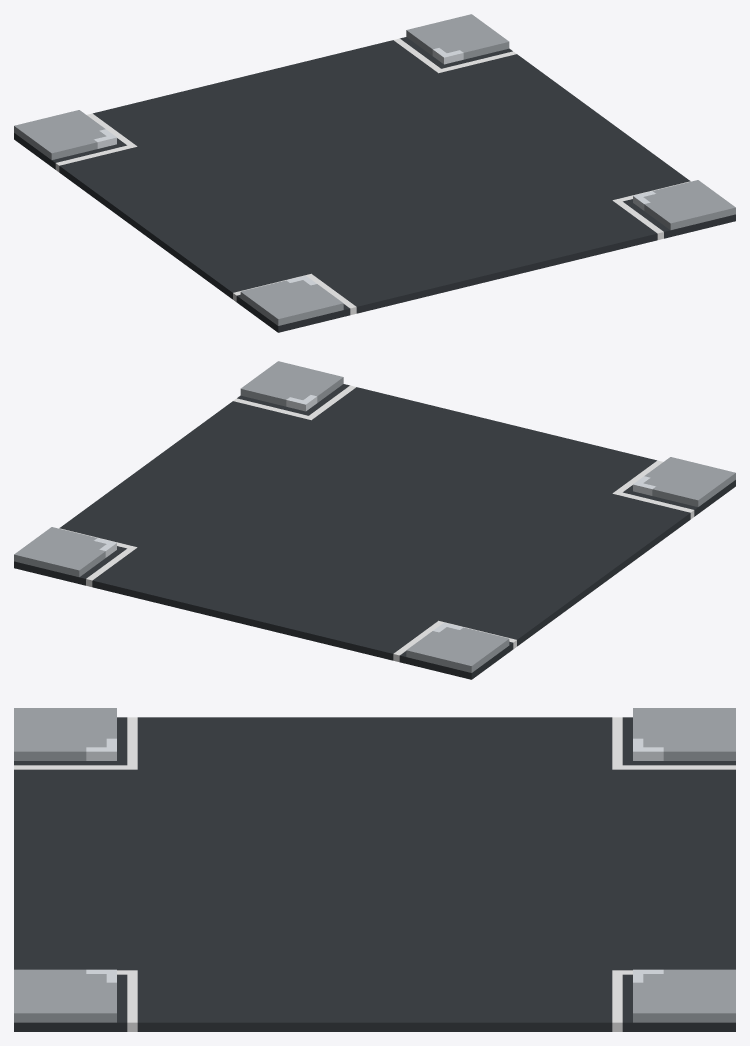
Rendered from intersection.obj.
3 renders of one model, top to bottom at view 1: azimuth 30°, elevation 25°; view 2: azimuth 150°, elevation 25°; view 3: azimuth 270°, elevation 25°, orthographic. The views are drawn at different scales.
Size of the model in its own units: 7 by 0.2 by 7.
1 material, 1 textured.
